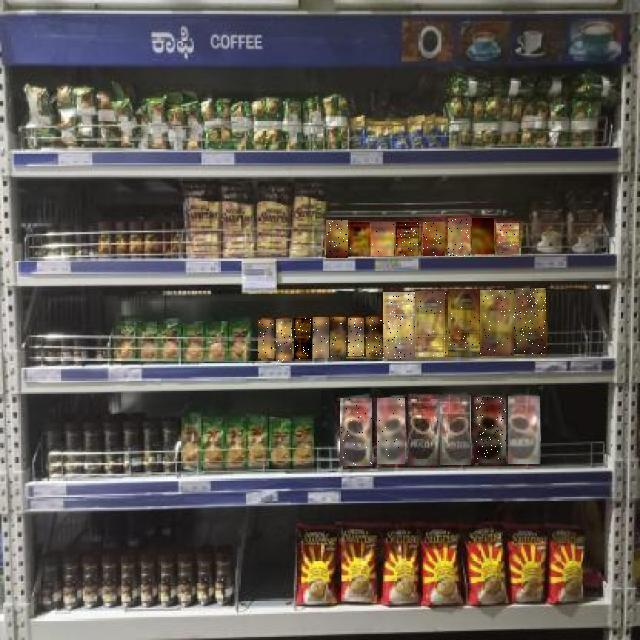Coffee: (409, 394, 441, 466), (480, 290, 514, 356), (508, 396, 540, 464), (340, 399, 372, 467), (440, 395, 471, 465), (383, 292, 415, 359), (514, 289, 546, 355), (448, 290, 480, 356), (416, 291, 448, 357), (474, 397, 506, 463), (377, 398, 405, 464), (448, 218, 470, 256), (326, 220, 348, 258), (472, 218, 494, 254), (371, 222, 394, 256), (396, 222, 419, 256), (423, 222, 445, 256), (348, 222, 370, 256), (294, 318, 312, 359), (496, 223, 519, 254), (331, 318, 347, 360), (277, 319, 293, 361), (366, 317, 382, 358), (313, 317, 329, 358), (348, 319, 364, 357), (258, 320, 274, 358)
